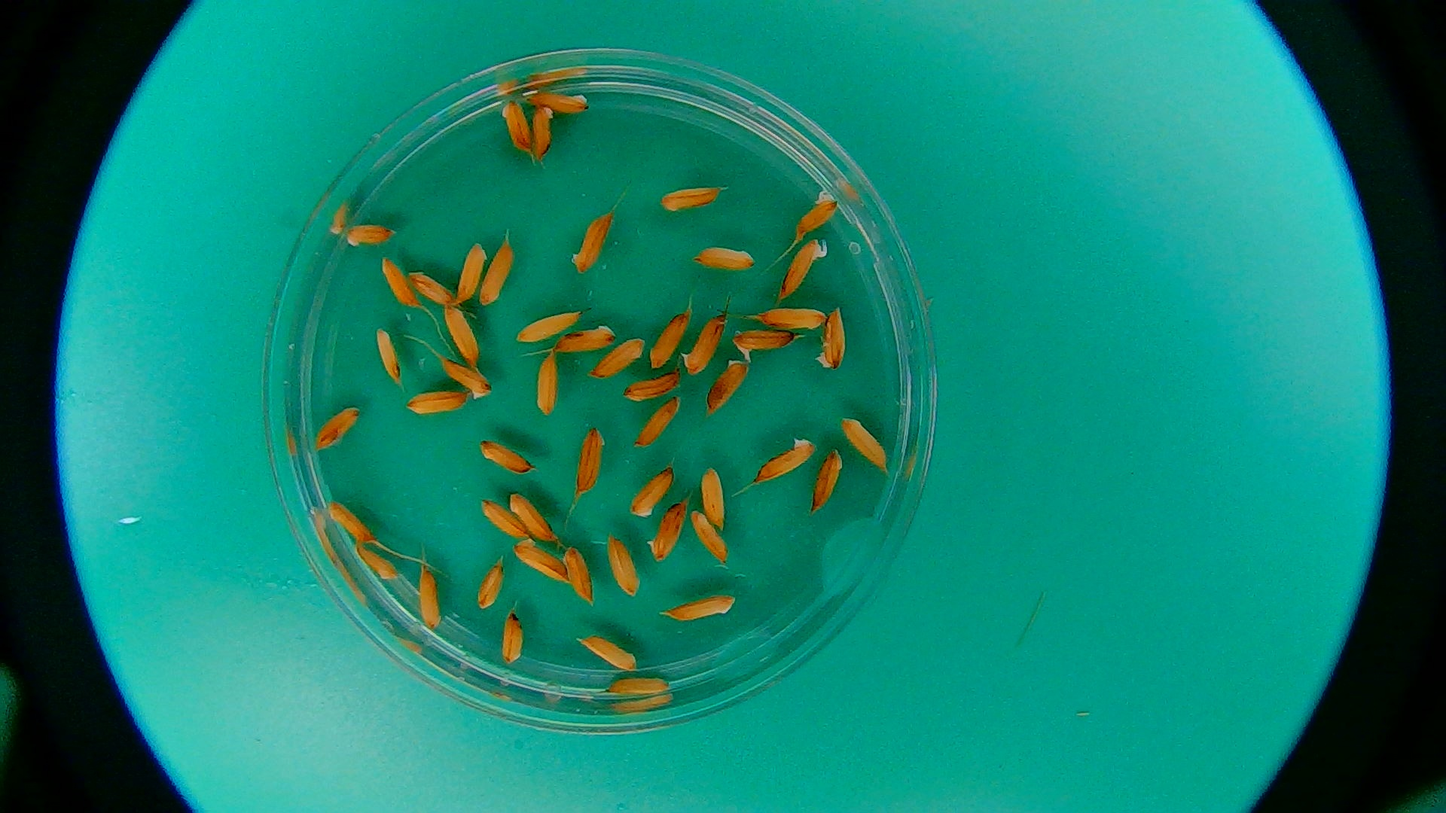no: (795, 176, 847, 240), (700, 359, 755, 418), (750, 438, 816, 485), (569, 210, 614, 274), (698, 464, 736, 530), (685, 311, 724, 374), (509, 490, 557, 541), (646, 501, 686, 562), (574, 633, 638, 671), (811, 446, 844, 518), (840, 416, 886, 467), (632, 464, 675, 518), (326, 499, 377, 544), (648, 311, 686, 370), (606, 534, 641, 597), (657, 182, 725, 214), (444, 303, 479, 365), (688, 511, 728, 565), (638, 397, 682, 446), (663, 593, 737, 622), (514, 539, 566, 580), (439, 359, 492, 399), (316, 406, 362, 452), (481, 242, 513, 306), (578, 426, 606, 498), (517, 311, 582, 342), (563, 544, 596, 605), (406, 269, 458, 306), (479, 497, 527, 537), (477, 439, 533, 473), (822, 306, 849, 374), (599, 340, 646, 379), (458, 239, 487, 302), (416, 567, 444, 631), (692, 244, 758, 271), (500, 99, 531, 154), (475, 558, 507, 611), (623, 370, 678, 400), (381, 257, 414, 306), (526, 88, 590, 113), (406, 391, 469, 416), (535, 352, 558, 419), (376, 324, 401, 385), (559, 325, 615, 352), (354, 548, 397, 581), (531, 107, 556, 160), (502, 611, 526, 666), (604, 675, 670, 694), (346, 225, 398, 247)
yes: (729, 327, 797, 357), (785, 242, 824, 291)
